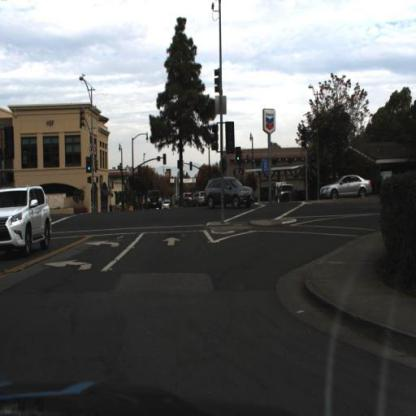car: (2, 184, 53, 258), (204, 176, 253, 211), (320, 175, 375, 202), (146, 190, 164, 213), (190, 190, 209, 208)
trafficLight-Green: (235, 146, 243, 167), (87, 156, 93, 173)
